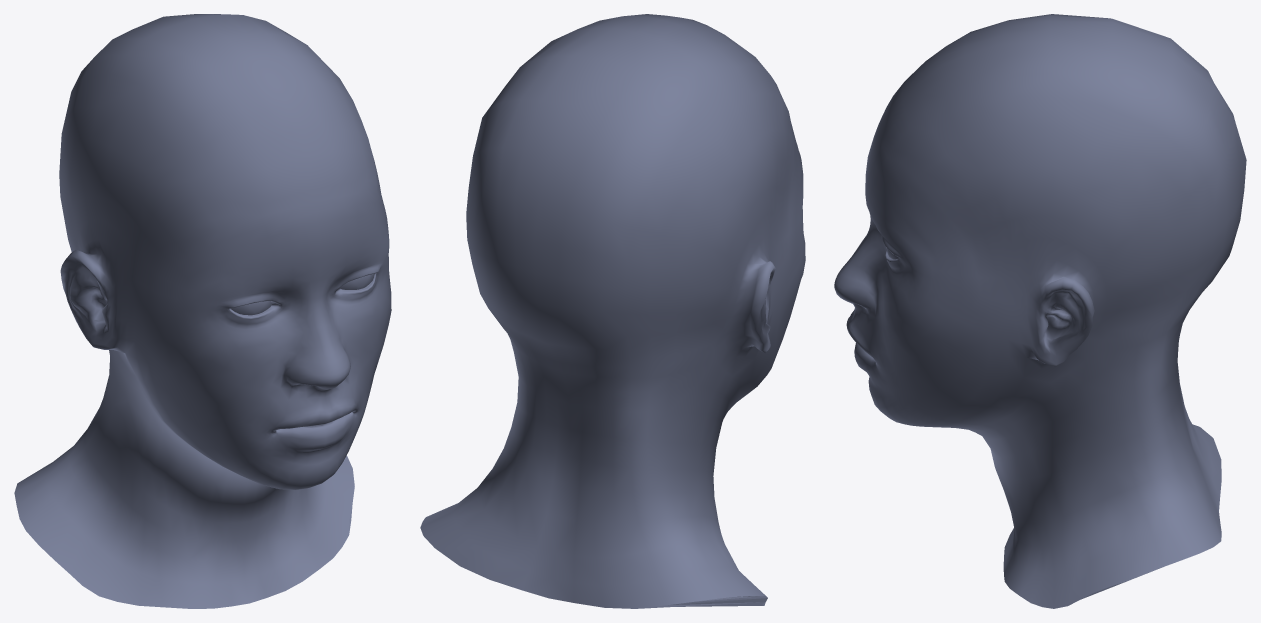
The model's file is first_head.glb.
3 renders of one model, left to right at view 1: azimuth 30°, elevation 25°; view 2: azimuth 150°, elevation 25°; view 3: azimuth 270°, elevation 25°, orthographic. The views are drawn at different scales.
Visible parts, largest first — view 1: Human_export_copy, Human.low-poly_export_copy; view 2: Human_export_copy; view 3: Human_export_copy.
Boxes of the visible parts, box(x1,y1,x2,y2) form: Human_export_copy: box(14, 14, 391, 608); Human.low-poly_export_copy: box(231, 273, 373, 315); Human_export_copy: box(420, 14, 805, 608); Human_export_copy: box(834, 14, 1246, 608).
Bounding box in the file's own units: 0.1829 × 0.2997 × 0.2082.
